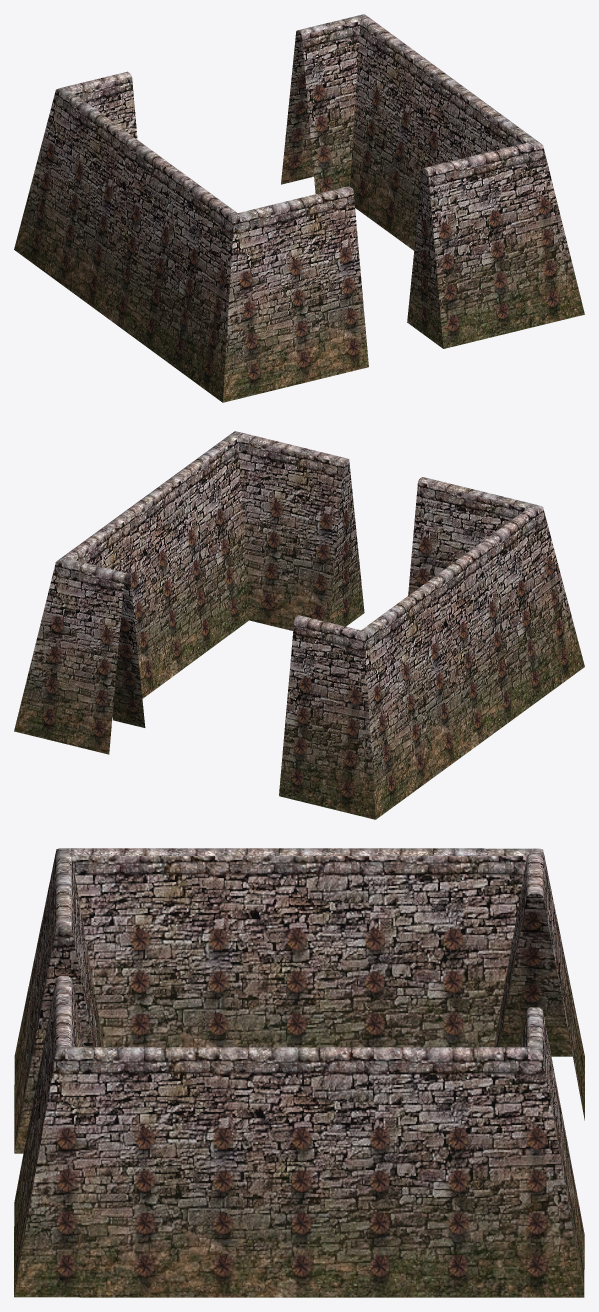
Rendered from celt_fortress_base.dae.
3 renders of one model, top to bottom at view 1: azimuth 30°, elevation 25°; view 2: azimuth 150°, elevation 25°; view 3: azimuth 270°, elevation 25°, orthographic. The views are drawn at different scales.
Parts seen in each view (by area): view 1: wall05-Pivot; view 2: wall05-Pivot; view 3: wall05-Pivot.
Boxes of the visible parts, bbox=[...] form: wall05-Pivot: bbox=[14, 14, 584, 402]; wall05-Pivot: bbox=[14, 431, 584, 819]; wall05-Pivot: bbox=[14, 848, 584, 1297].
Bounding box in the file's own units: 19.97 × 19.98 × 8.78.
